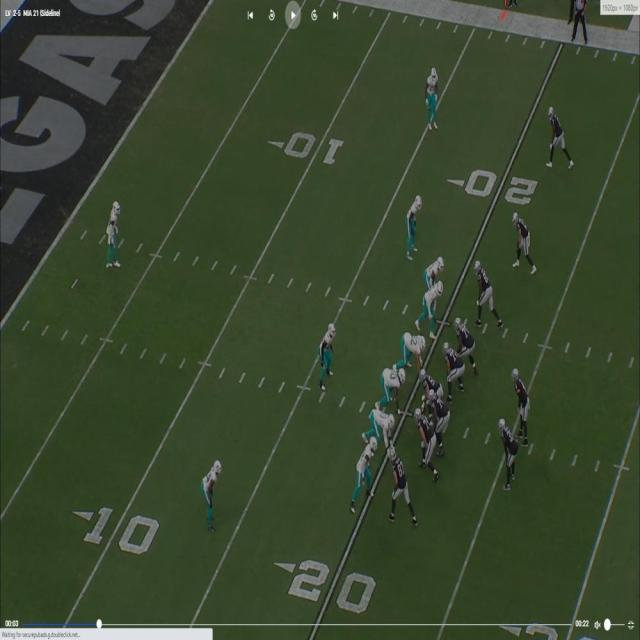center: (427, 372, 444, 402)
db: (203, 460, 219, 535), (405, 194, 420, 256), (425, 64, 440, 111), (106, 200, 121, 247)
lb: (354, 437, 377, 512), (317, 320, 335, 385), (418, 284, 443, 325), (422, 255, 445, 283)
qb: (512, 369, 528, 443)
skill: (389, 447, 412, 521), (547, 102, 570, 164), (476, 262, 498, 325), (498, 418, 515, 493), (516, 210, 534, 268), (417, 412, 434, 473)
